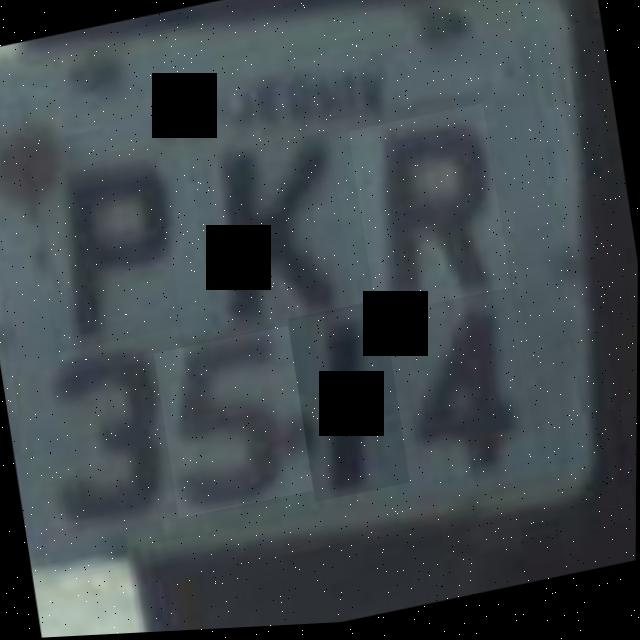1: (287, 302, 412, 507)
3: (8, 328, 211, 566)
4: (398, 280, 539, 489)
5: (154, 328, 315, 522)
K: (189, 134, 357, 341)
P: (29, 156, 187, 375)
R: (348, 107, 513, 321)
